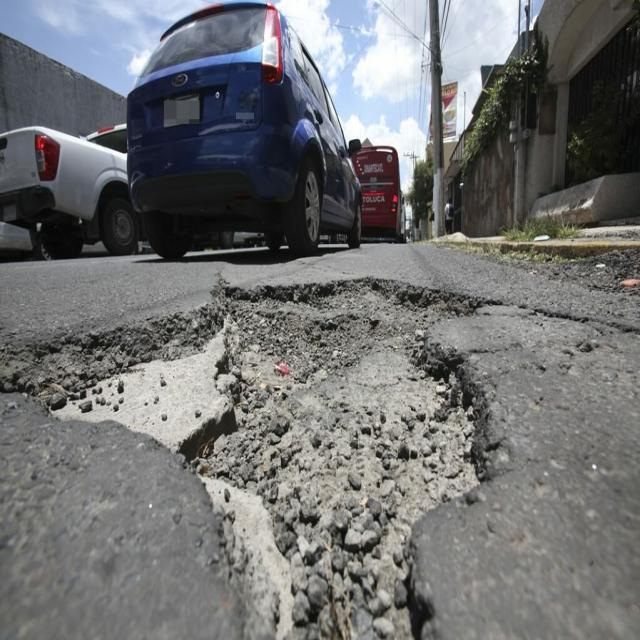Pothole: (1, 272, 570, 640)
